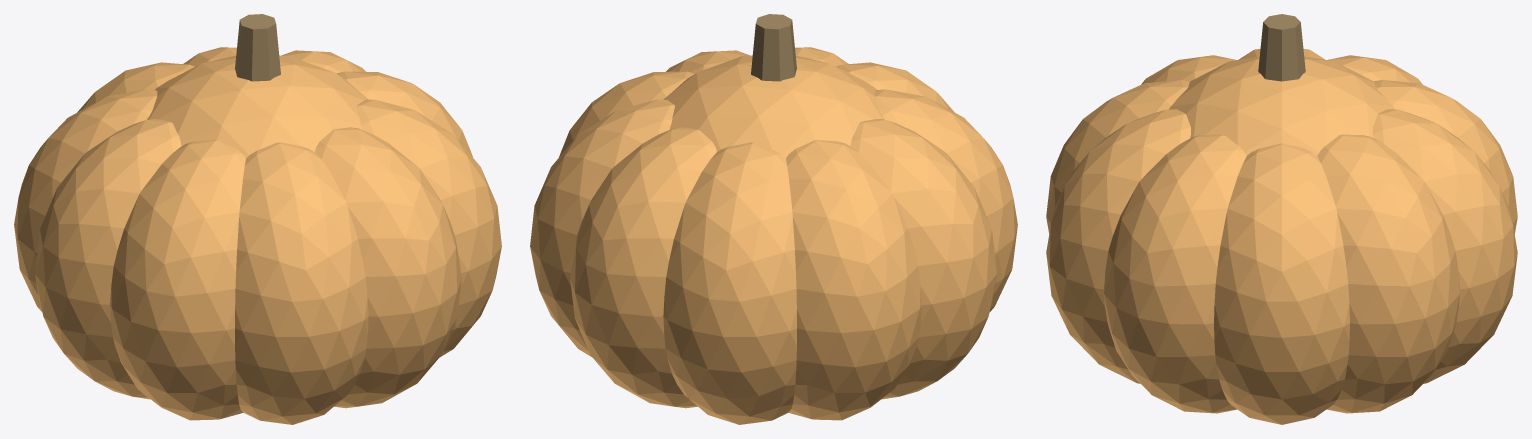
File: HOB_Fruit_Pumpkin.fbx
3 renders of one model, left to right at view 1: azimuth 30°, elevation 25°; view 2: azimuth 150°, elevation 25°; view 3: azimuth 270°, elevation 25°, orthographic.
Visible parts, largest first — view 1: HOB_Fruit_Pumpkin; view 2: HOB_Fruit_Pumpkin; view 3: HOB_Fruit_Pumpkin.
Boxes of the visible parts, box(x1,y1,x2,y2) form: HOB_Fruit_Pumpkin: box(14, 14, 501, 424); HOB_Fruit_Pumpkin: box(530, 14, 1017, 424); HOB_Fruit_Pumpkin: box(1046, 14, 1517, 424).
Size of the model in its own units: 229 by 183 by 221.
